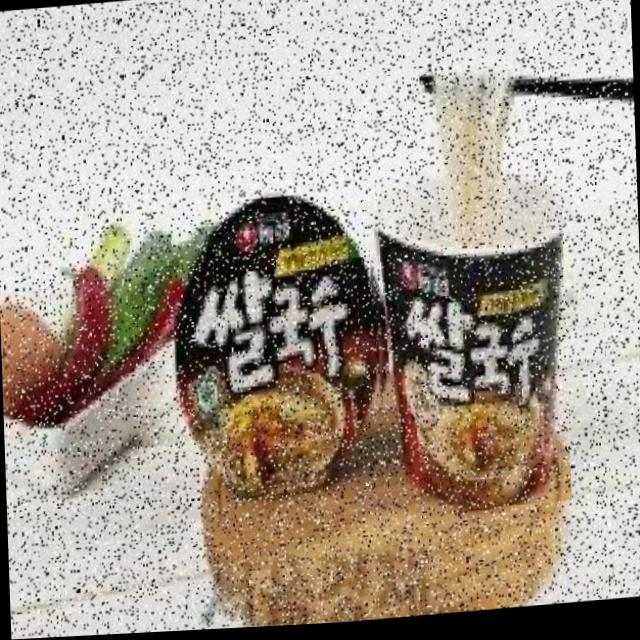Miscellaneous: (362, 149, 572, 522)
